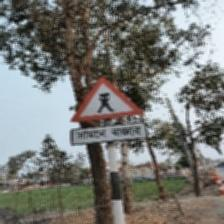Market-in-front: (68, 76, 147, 147)
